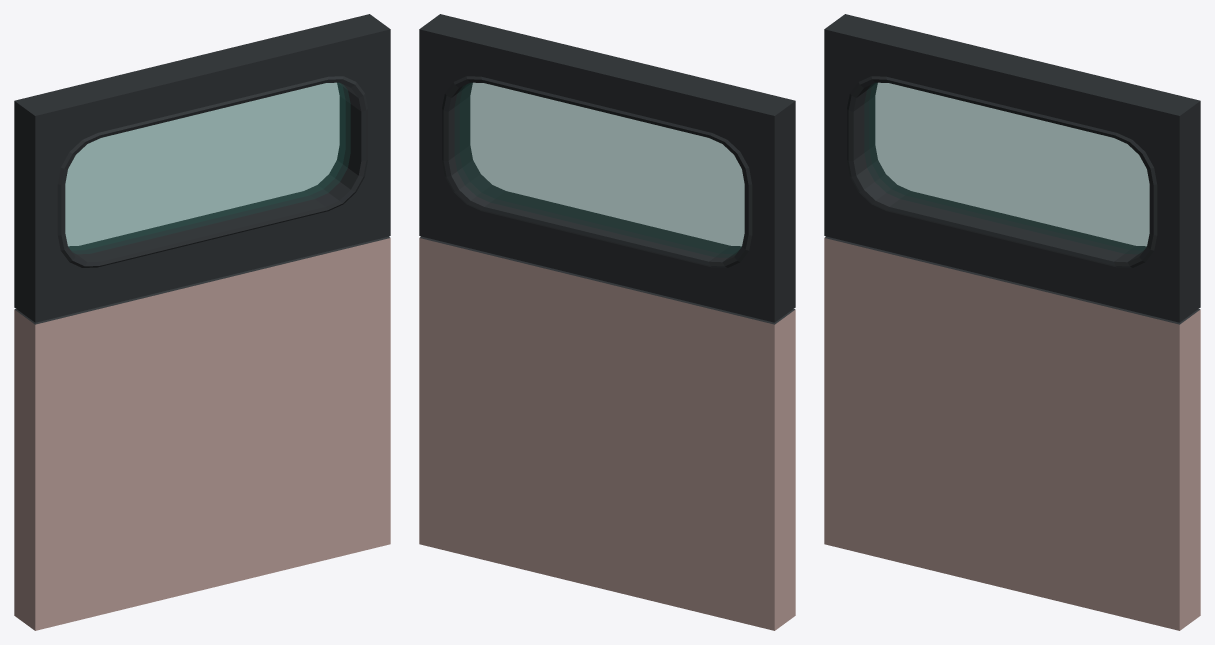
Rendered from SM_wall_window_01.fbx.
3 views of the same model, side by side, from view 1: azimuth 30°, elevation 25°; view 2: azimuth 150°, elevation 25°; view 3: azimuth 330°, elevation 25° (orthographic).
Visible parts, largest first — view 1: wall_window_01; view 2: wall_window_01; view 3: wall_window_01.
Part boxes in pixels (box(x1,y1,x2,y2)): wall_window_01: box(14, 14, 390, 630); wall_window_01: box(419, 14, 795, 630); wall_window_01: box(824, 14, 1200, 630).
Bounding box in the file's own units: 219 × 303 × 24.38.
